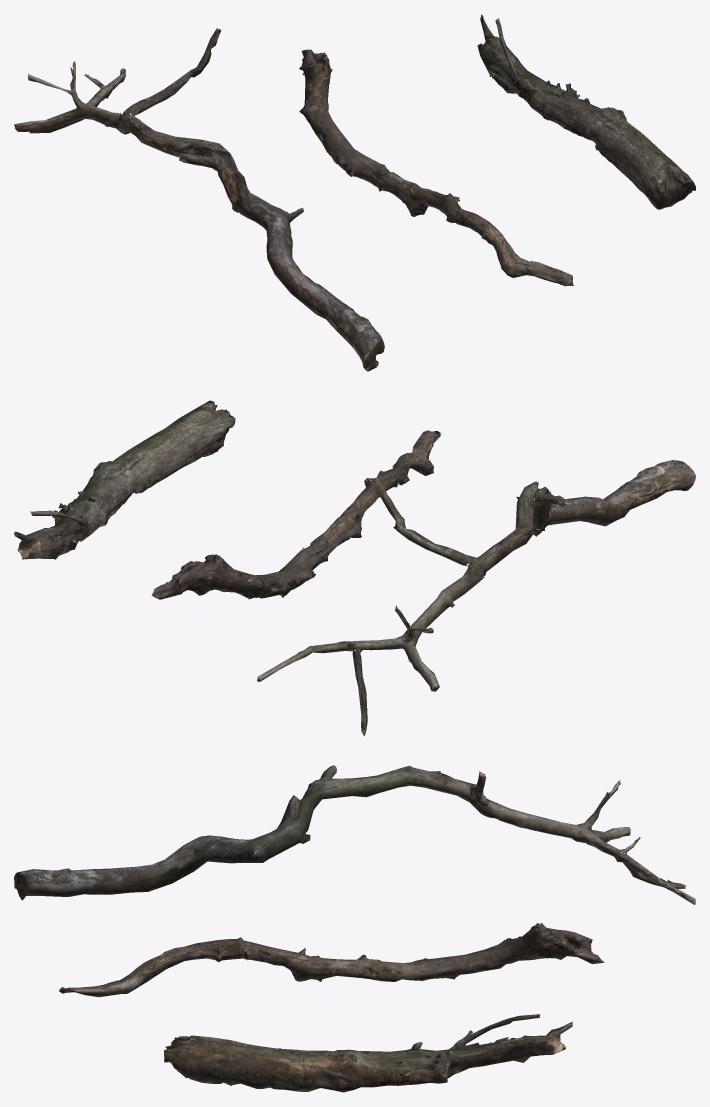
File: dry_branches_medium_01_lod0.glb
The picture shows the model from 3 angles, top to bottom: view 1: azimuth 30°, elevation 25°; view 2: azimuth 150°, elevation 25°; view 3: azimuth 270°, elevation 25°; orthographic projection. The views are drawn at different scales.
Visible parts, largest first — view 1: dry_branches_medium_01_a, dry_branches_medium_01_c, dry_branches_medium_01_b; view 2: dry_branches_medium_01_a, dry_branches_medium_01_c, dry_branches_medium_01_b; view 3: dry_branches_medium_01_a, dry_branches_medium_01_c, dry_branches_medium_01_b.
Part boxes in pixels (x1,y1,x2,y2): dry_branches_medium_01_a: [14, 28, 384, 371]; dry_branches_medium_01_c: [477, 14, 695, 209]; dry_branches_medium_01_b: [299, 49, 573, 286]; dry_branches_medium_01_a: [257, 460, 695, 735]; dry_branches_medium_01_c: [14, 400, 235, 559]; dry_branches_medium_01_b: [151, 430, 441, 599]; dry_branches_medium_01_a: [14, 765, 695, 904]; dry_branches_medium_01_c: [164, 1014, 572, 1092]; dry_branches_medium_01_b: [59, 923, 604, 997].
Bounding box in the file's own units: 1.06 × 0.3403 × 1.3.
Materials: 1 (1 with a texture image).
